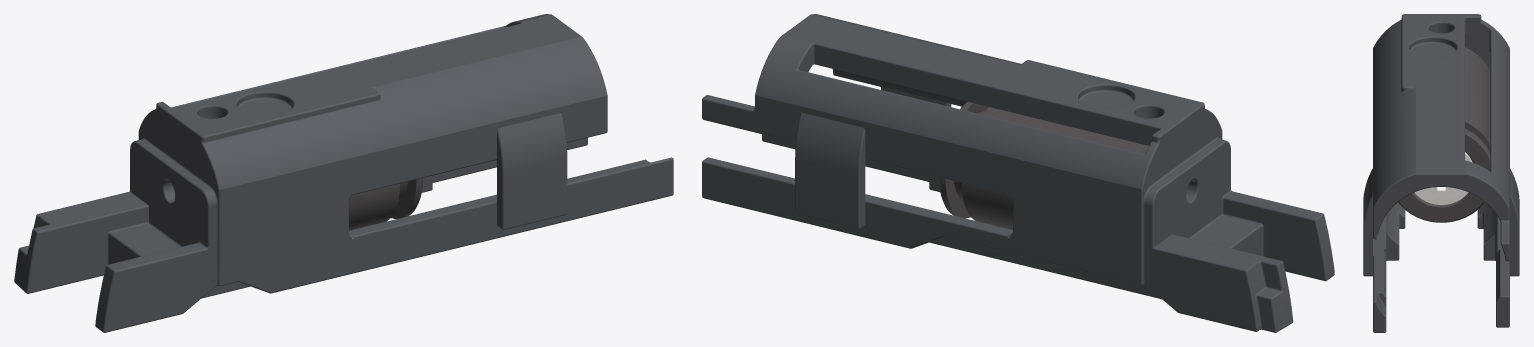
The model's file is nzhousing.glb.
3 views of the same model, side by side, from view 1: azimuth 30°, elevation 25°; view 2: azimuth 150°, elevation 25°; view 3: azimuth 270°, elevation 25° (orthographic). The views are drawn at different scales.
Parts seen in each view (by area): view 1: HI-CAPA飛機座-1, HI-CAPA Trinity飛機座套筒-2022.02.07_預設.stp-1; view 2: HI-CAPA飛機座-1, HI-CAPA Trinity飛機座套筒-2022.02.07_預設.stp-1; view 3: HI-CAPA飛機座-1, HI-CAPA Trinity飛機座套筒-2022.02.07_預設.stp-1, countersunk flat head cross recess screw_iso_ISO 7046-1 - M4.
Part boxes in pixels (x1,y1,x2,y2): HI-CAPA飛機座-1: (14, 14, 673, 332); HI-CAPA Trinity飛機座套筒-2022.02.07_預設.stp-1: (349, 178, 423, 230); HI-CAPA飛機座-1: (702, 14, 1334, 332); HI-CAPA Trinity飛機座套筒-2022.02.07_預設.stp-1: (939, 101, 1149, 229); HI-CAPA飛機座-1: (1363, 14, 1519, 332); HI-CAPA Trinity飛機座套筒-2022.02.07_預設.stp-1: (1398, 47, 1490, 222); countersunk flat head cross recess screw_iso_ISO 7046-1 - M4: (1414, 152, 1472, 204).
Bounding box in the file's own units: 0.0719 × 0.0194 × 0.0197.
3 materials, 1 textured.
